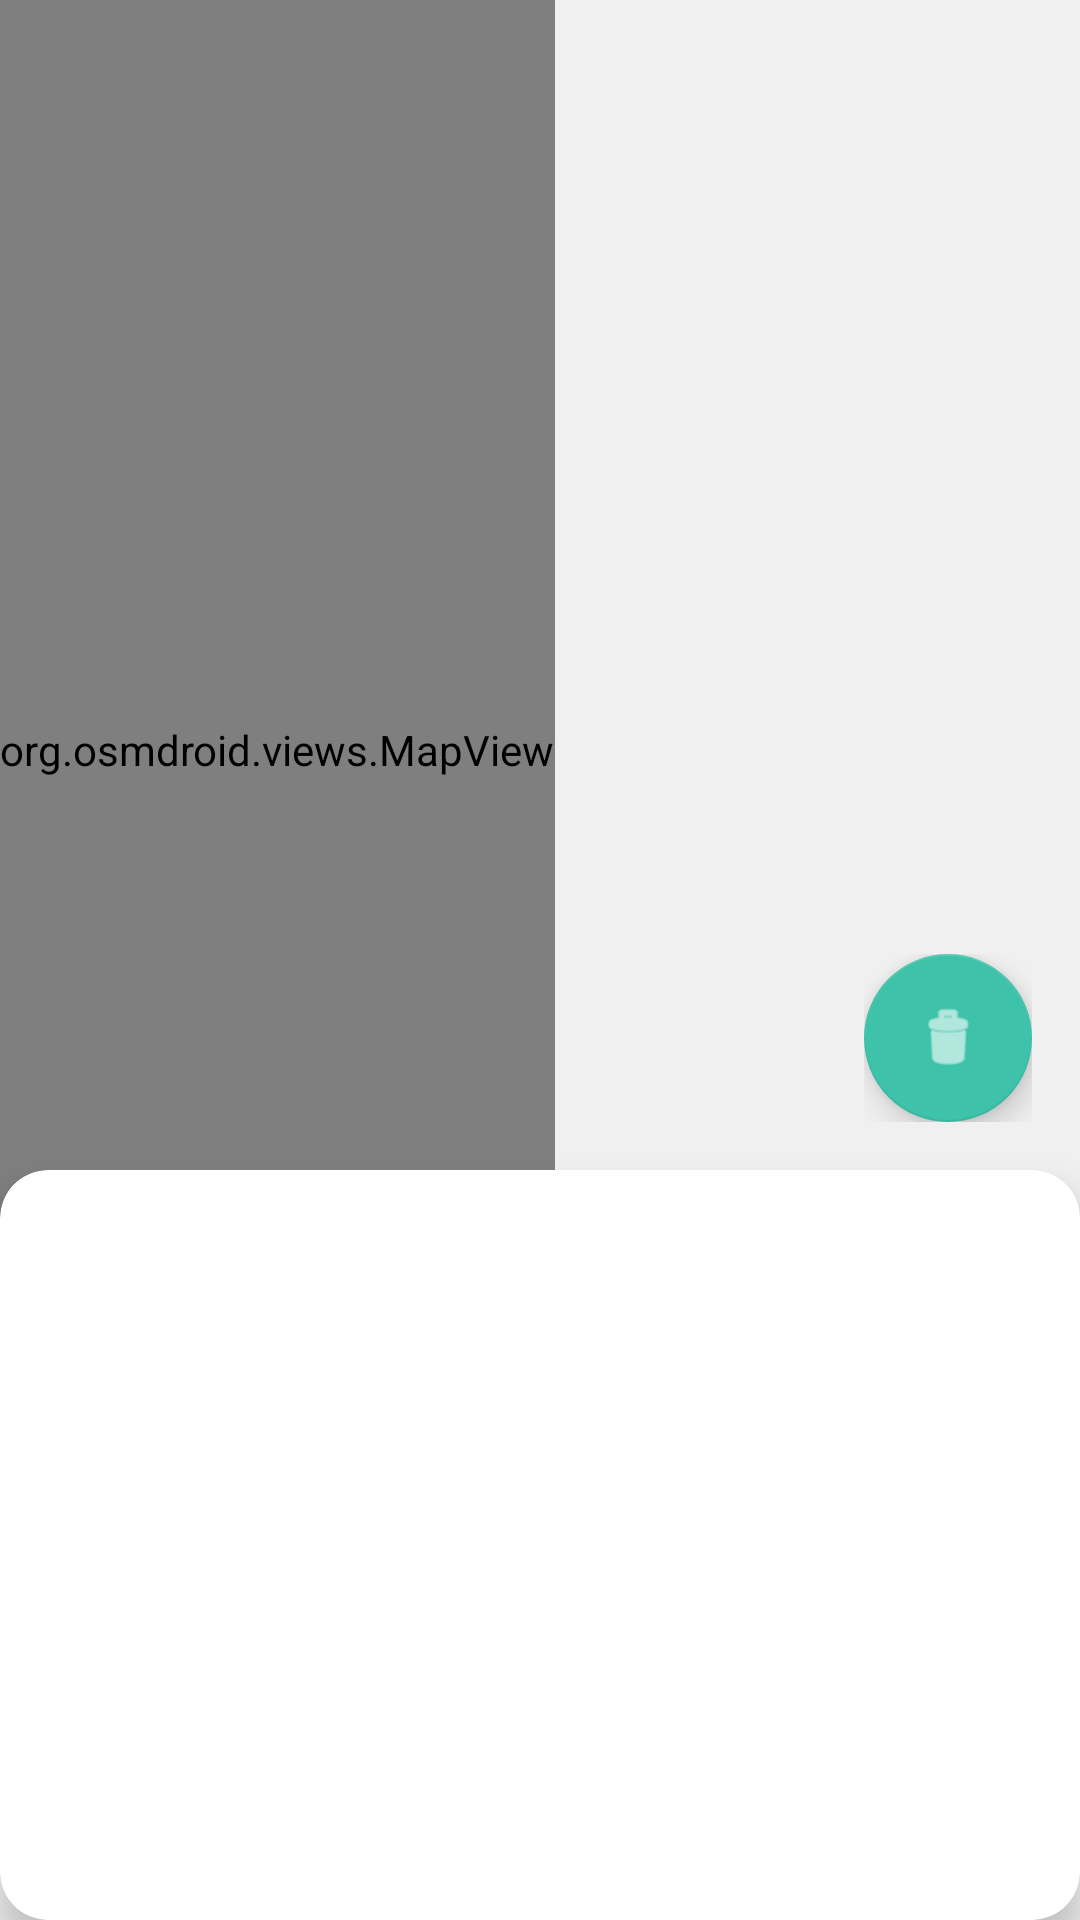

Where to tap for icons on this 1080px x 1920px app screen, as point (x, y):
delete: point (948, 1038)
